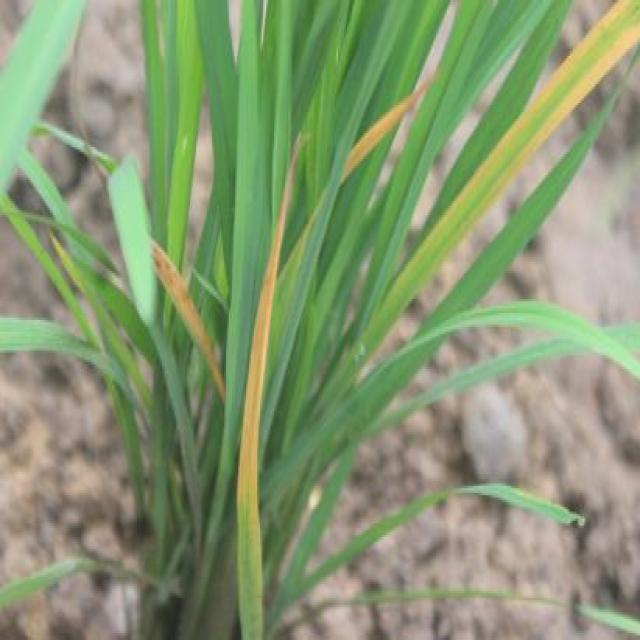Tungro: (456, 0, 640, 193), (235, 126, 292, 640), (144, 203, 224, 419), (335, 76, 438, 191)
